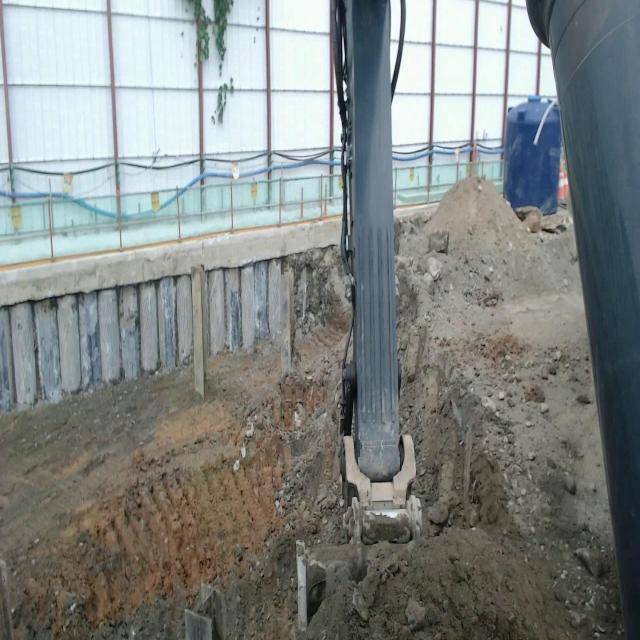cement: (0, 218, 340, 305)
red-sand: (307, 179, 624, 639), (0, 267, 350, 639)
